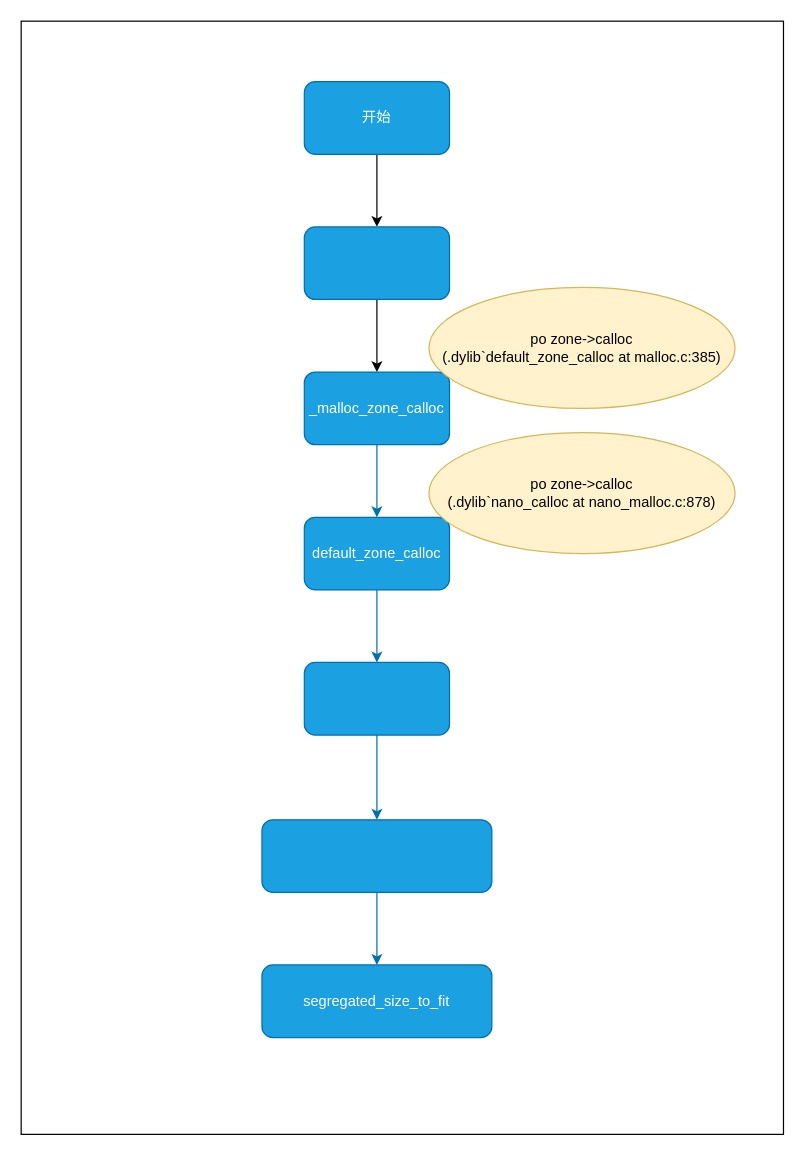
Some shapes in this 805 by 1156 pixel diagram are drawn without their labels. The shapes that lost their labels are listed below. From the top down, each one's centre as x and y in pixels, then its label:
At point (376, 262): "calloc".
At point (376, 698): "nona_calloc".
At point (376, 855): "_nona_malloc_check_clear".
